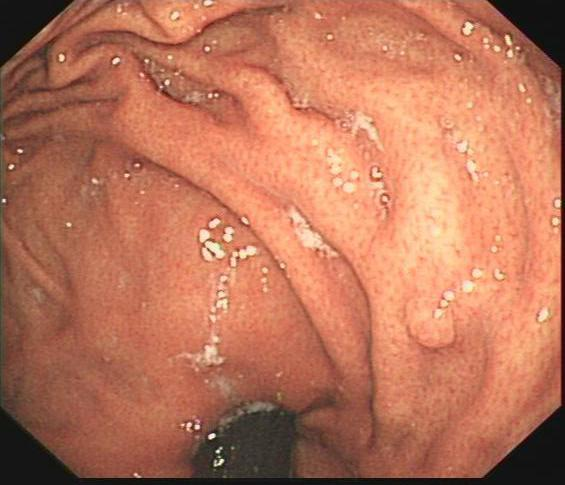Polyp: (402, 280, 471, 369)
